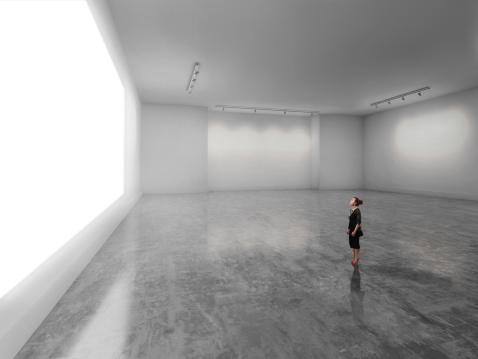em pe: (338, 187, 365, 292)
